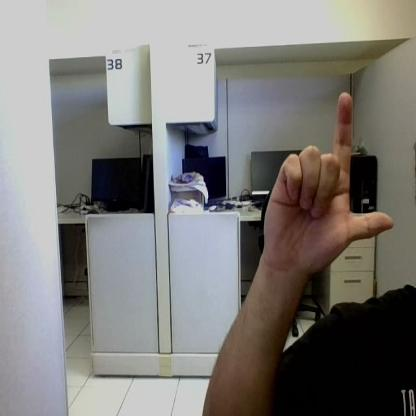L: (263, 91, 392, 267)
